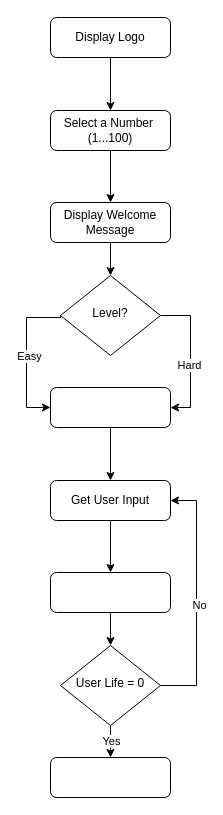
Some shapes in this 223 by 815 pixel diagram are drawn without their labels. Here are the shapes that lost their labels. From the top down, the centre of each, then its label:
pixel 110 407: Set Attempts Number
pixel 110 592: Display Result
pixel 110 777: Game Over
